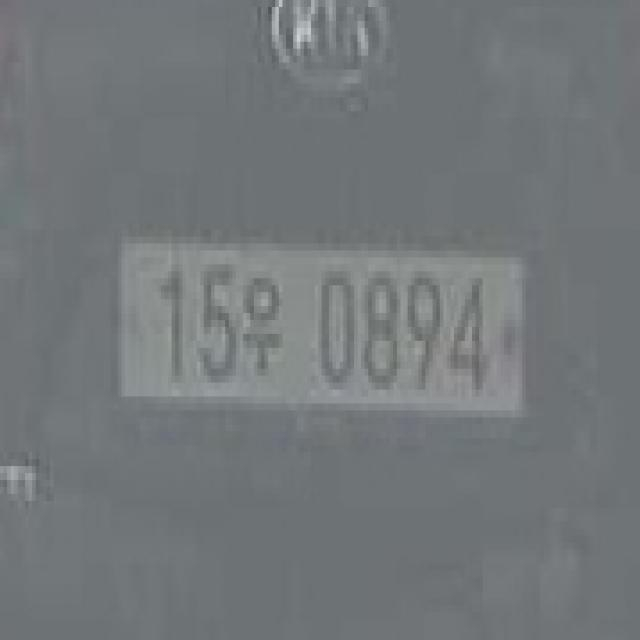0: (314, 258, 358, 397)
1: (150, 250, 193, 390)
4: (443, 258, 497, 410)
5: (197, 250, 236, 390)
8: (358, 257, 404, 403)
9: (404, 258, 443, 410)
license_plate: (104, 223, 544, 445)
u: (240, 258, 286, 390)
